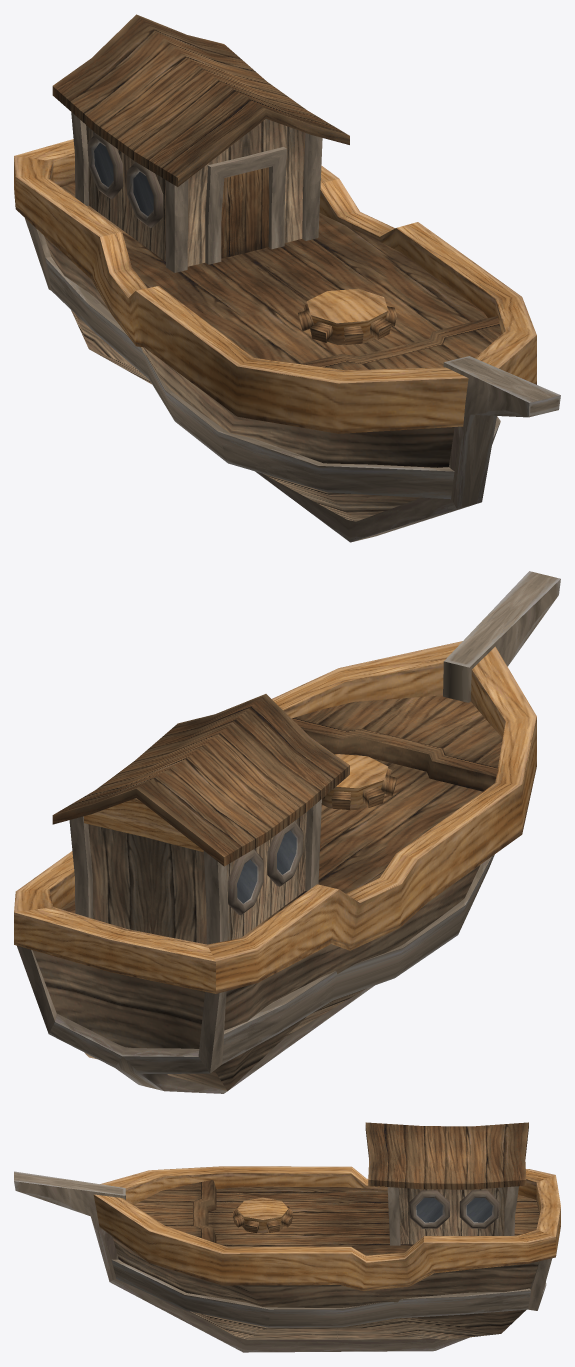
File: TransportShip2.fbx
3 views of the same model, one above another, from view 1: azimuth 30°, elevation 25°; view 2: azimuth 150°, elevation 25°; view 3: azimuth 270°, elevation 25° (orthographic). The views are drawn at different scales.
Parts seen in each view (by area): view 1: TransportShip2; view 2: TransportShip2; view 3: TransportShip2.
Boxes of the visible parts, x1,y1,x2,y2 form: TransportShip2: (14, 14, 560, 542); TransportShip2: (14, 571, 560, 1093); TransportShip2: (14, 1122, 560, 1352).
Bounding box in the file's own units: 291 × 351 × 768.
